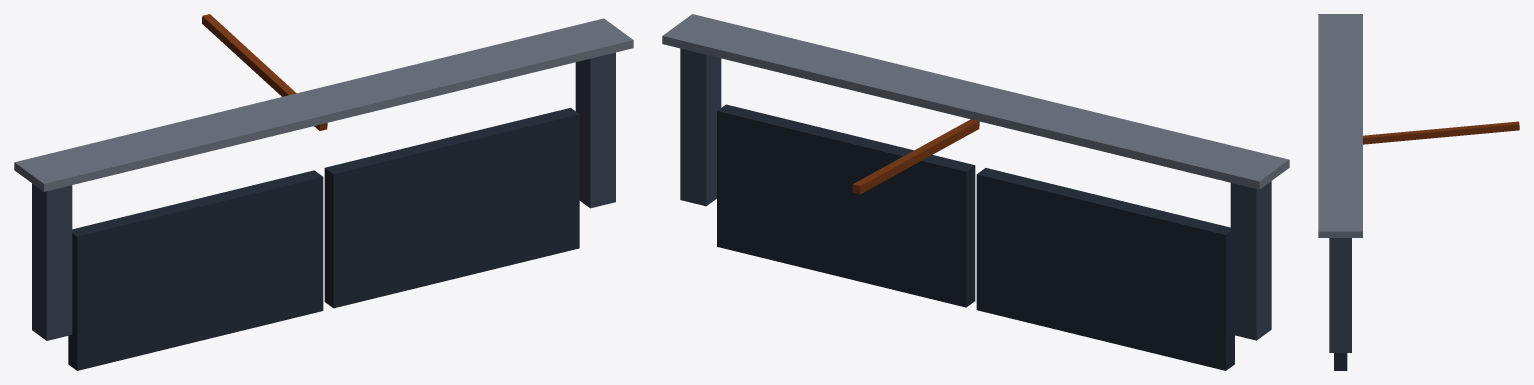
Rendered from lock-gate-structure-authored-atlas.glb.
3 renders of one model, left to right at view 1: azimuth 30°, elevation 25°; view 2: azimuth 150°, elevation 25°; view 3: azimuth 270°, elevation 25°, orthographic. The views are drawn at different scales.
Visible parts, largest first — view 1: Authored surface.035; view 2: Authored surface.035; view 3: Authored surface.035.
Part boxes in pixels (<box>): Authored surface.035: <box>14,14,633,370</box>; Authored surface.035: <box>662,14,1289,370</box>; Authored surface.035: <box>1318,14,1519,370</box>.
Bounding box in the file's own units: 11.5 × 3.83 × 4.5.
1 material, 1 textured.
